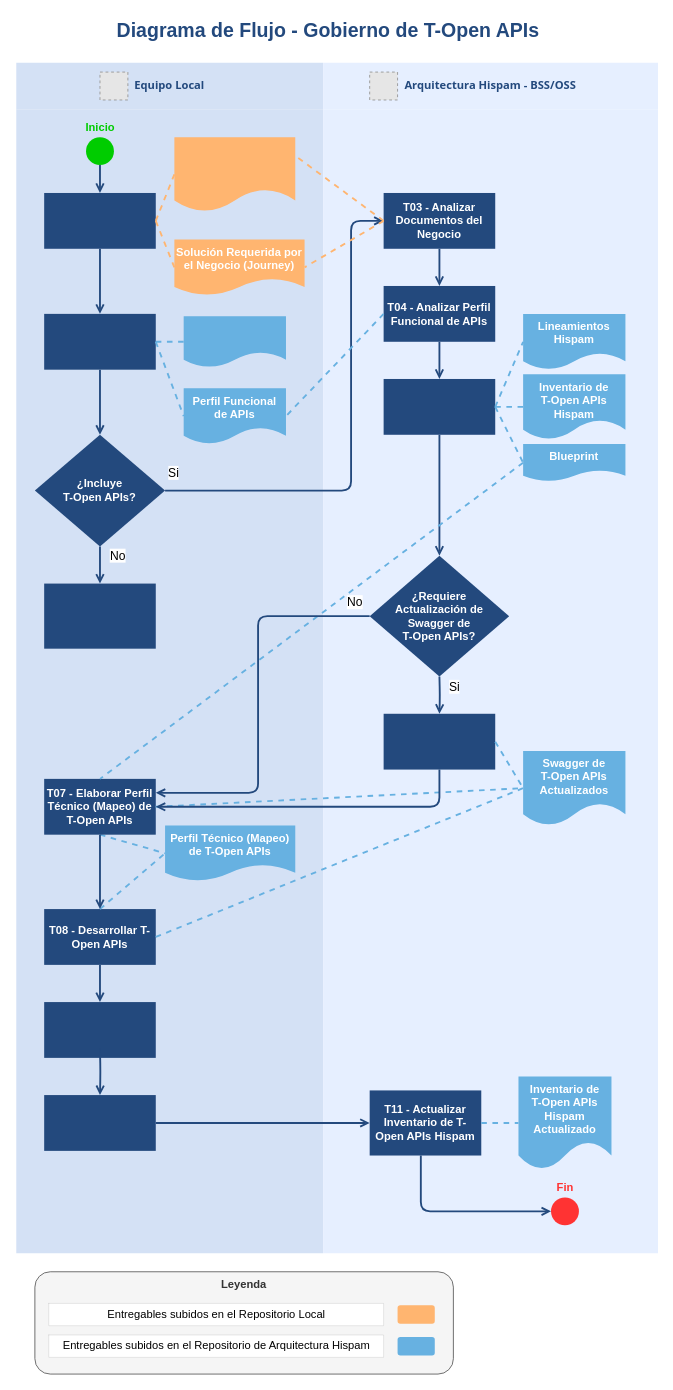
Some shapes in this 673 by 1390 pixel diagram are drawn without their labels. Grey dashed boxes stand in for pictures. The centre of each missing label's shape, as x and y in pixels:
"Catálogo de T-Open APIs" belongs at (x=234, y=341).
"Continuar Flujo de Gobierno de APIs Local" belongs at (x=99, y=615).
"Requisitos Funcionales y No Funcionales" belongs at (x=234, y=174).
"T01 - Validar Documentos del Negocio" belongs at (x=99, y=220).
"T02 - Elaborar Perfil Funcional de APIs" belongs at (x=99, y=341).
"T05 - Elaborar Blueprint" belongs at (x=439, y=406).
"T06 - Actualizar Swagger de T-Open APIs" belongs at (x=439, y=741).
"T09 - Certificar T-Open APIs" belongs at (x=99, y=1029).
"T10 - Realizar Pase a Producción de T-Open APIs" belongs at (x=99, y=1122).
